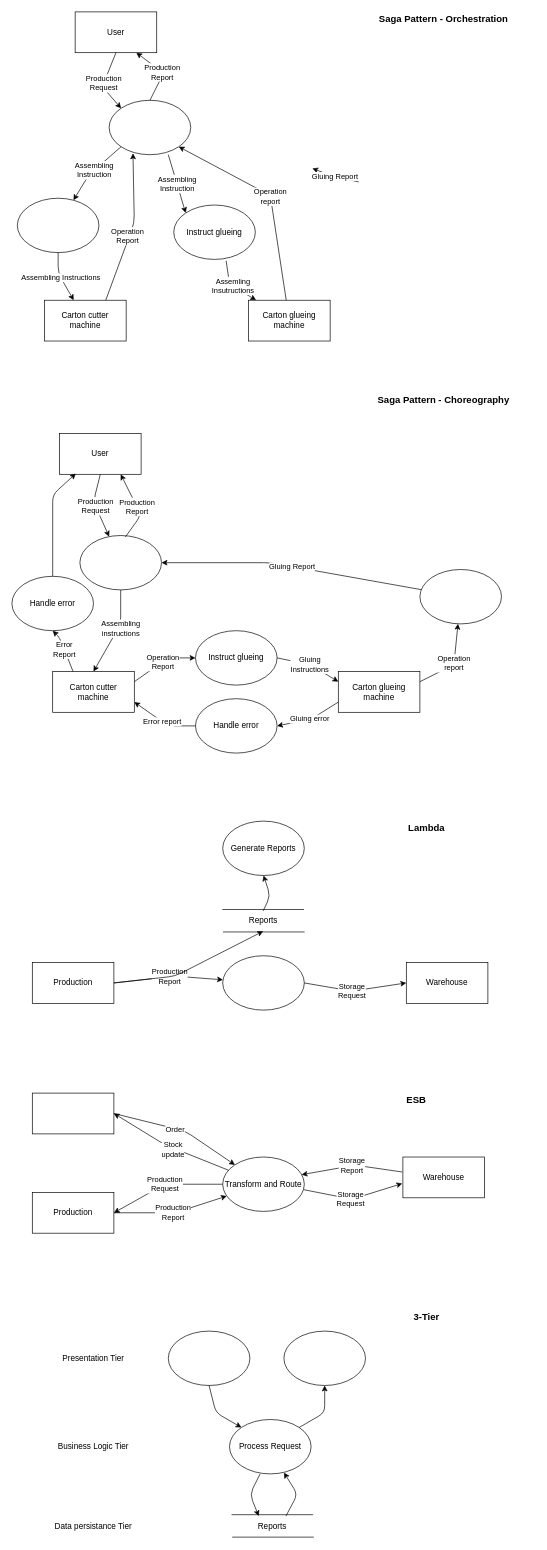
This 547x1550 diagram has some shape labels left out. The centre of each missing label's shape, as x and y in pixels:
Accept request: (209,1358)
Initiate Production: (120,562)
Instruct carton cutting: (58,225)
Mediate Production: (149,127)
Present results: (324,1358)
Report Completion: (460,596)
Shop: (73,1113)
Trigger Storaging: (263,982)
